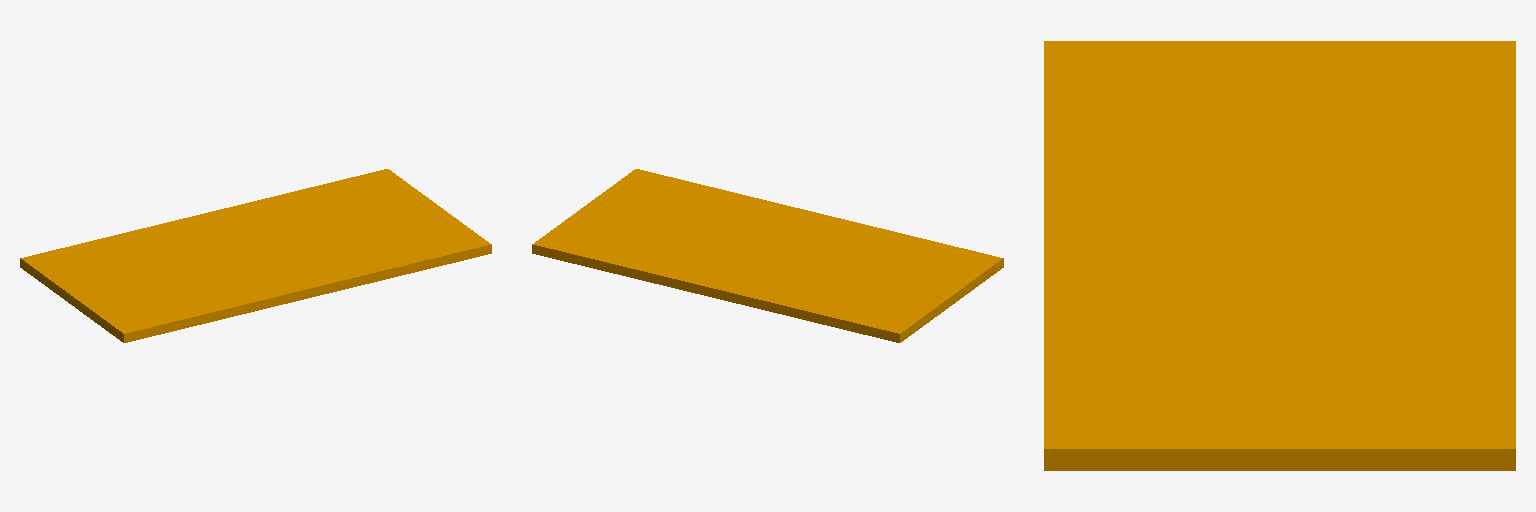
robot.urdf — chessboard:
<robot name="chessboard">
  <link name="base_link">
    <visual>
      <geometry>
        <box size="0.41 0.2 0.01"/>
      </geometry>
      <material>
        <texture filename="objects/chessboard/materials/textures/chessboard.png"/>
      </material>
    </visual>
  </link>
</robot>

--- Render facts (derived) ---
Views: 3 orthographic renders of the robot side by side, from view 1: azimuth 30°, elevation 25°; view 2: azimuth 150°, elevation 25°; view 3: azimuth 270°, elevation 25°.
Model chessboard with 1 links and 0 joints (none), rooted at base_link, posed every joint at zero.
Links seen in each view (by area): view 1: base_link; view 2: base_link; view 3: base_link.
Boxes of the visible links, <box> form: base_link: <box>20,169,491,342</box>; base_link: <box>532,169,1003,342</box>; base_link: <box>1044,41,1515,470</box>.
Size in the robot's own frame: 0.41 by 0.2 by 0.01 metres.
Geometry: primitives only (box / cylinder / sphere), no mesh files.